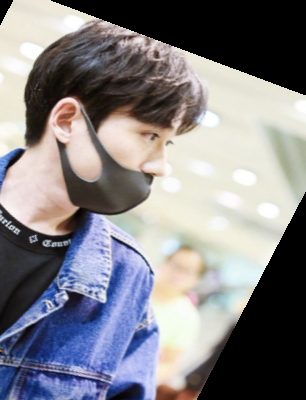mask_weared_incorrect: (18, 12, 213, 226)
